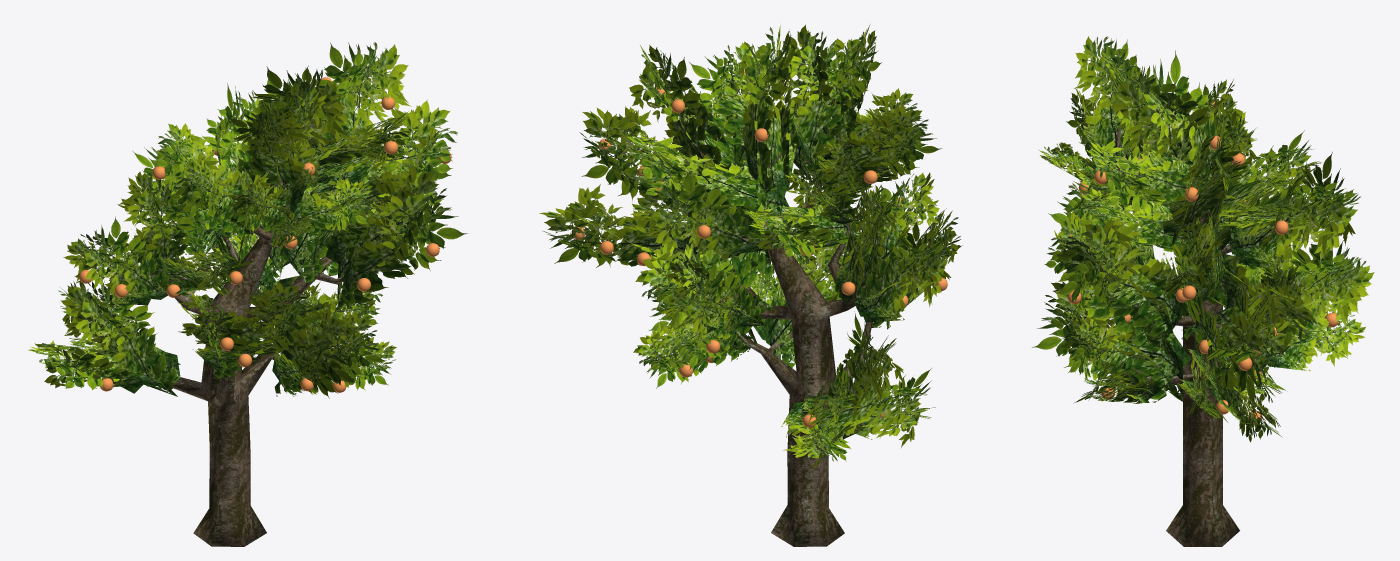
Rendered from OrangeTree.fbx.
3 renders of one model, left to right at view 1: azimuth 30°, elevation 25°; view 2: azimuth 150°, elevation 25°; view 3: azimuth 270°, elevation 25°, orthographic. The views are drawn at different scales.
Visible parts, largest first — view 1: CitrusLeaves, trunk.001, orange.011; view 2: CitrusLeaves, trunk.001, orange.011; view 3: CitrusLeaves, trunk.001, orange.011.
Boxes of the visible parts, x1,y1,x2,y2 form: CitrusLeaves: (28,42,467,398); trunk.001: (134,168,343,546); orange.011: (79,77,451,392); CitrusLeaves: (539,24,962,467); trunk.001: (700,151,882,546); orange.011: (571,70,947,427); CitrusLeaves: (1032,36,1374,442); trunk.001: (1116,128,1302,546); orange.011: (1067,100,1338,424).
Size of the model in its own units: 564 by 644 by 426.
3 materials, 2 textured.
